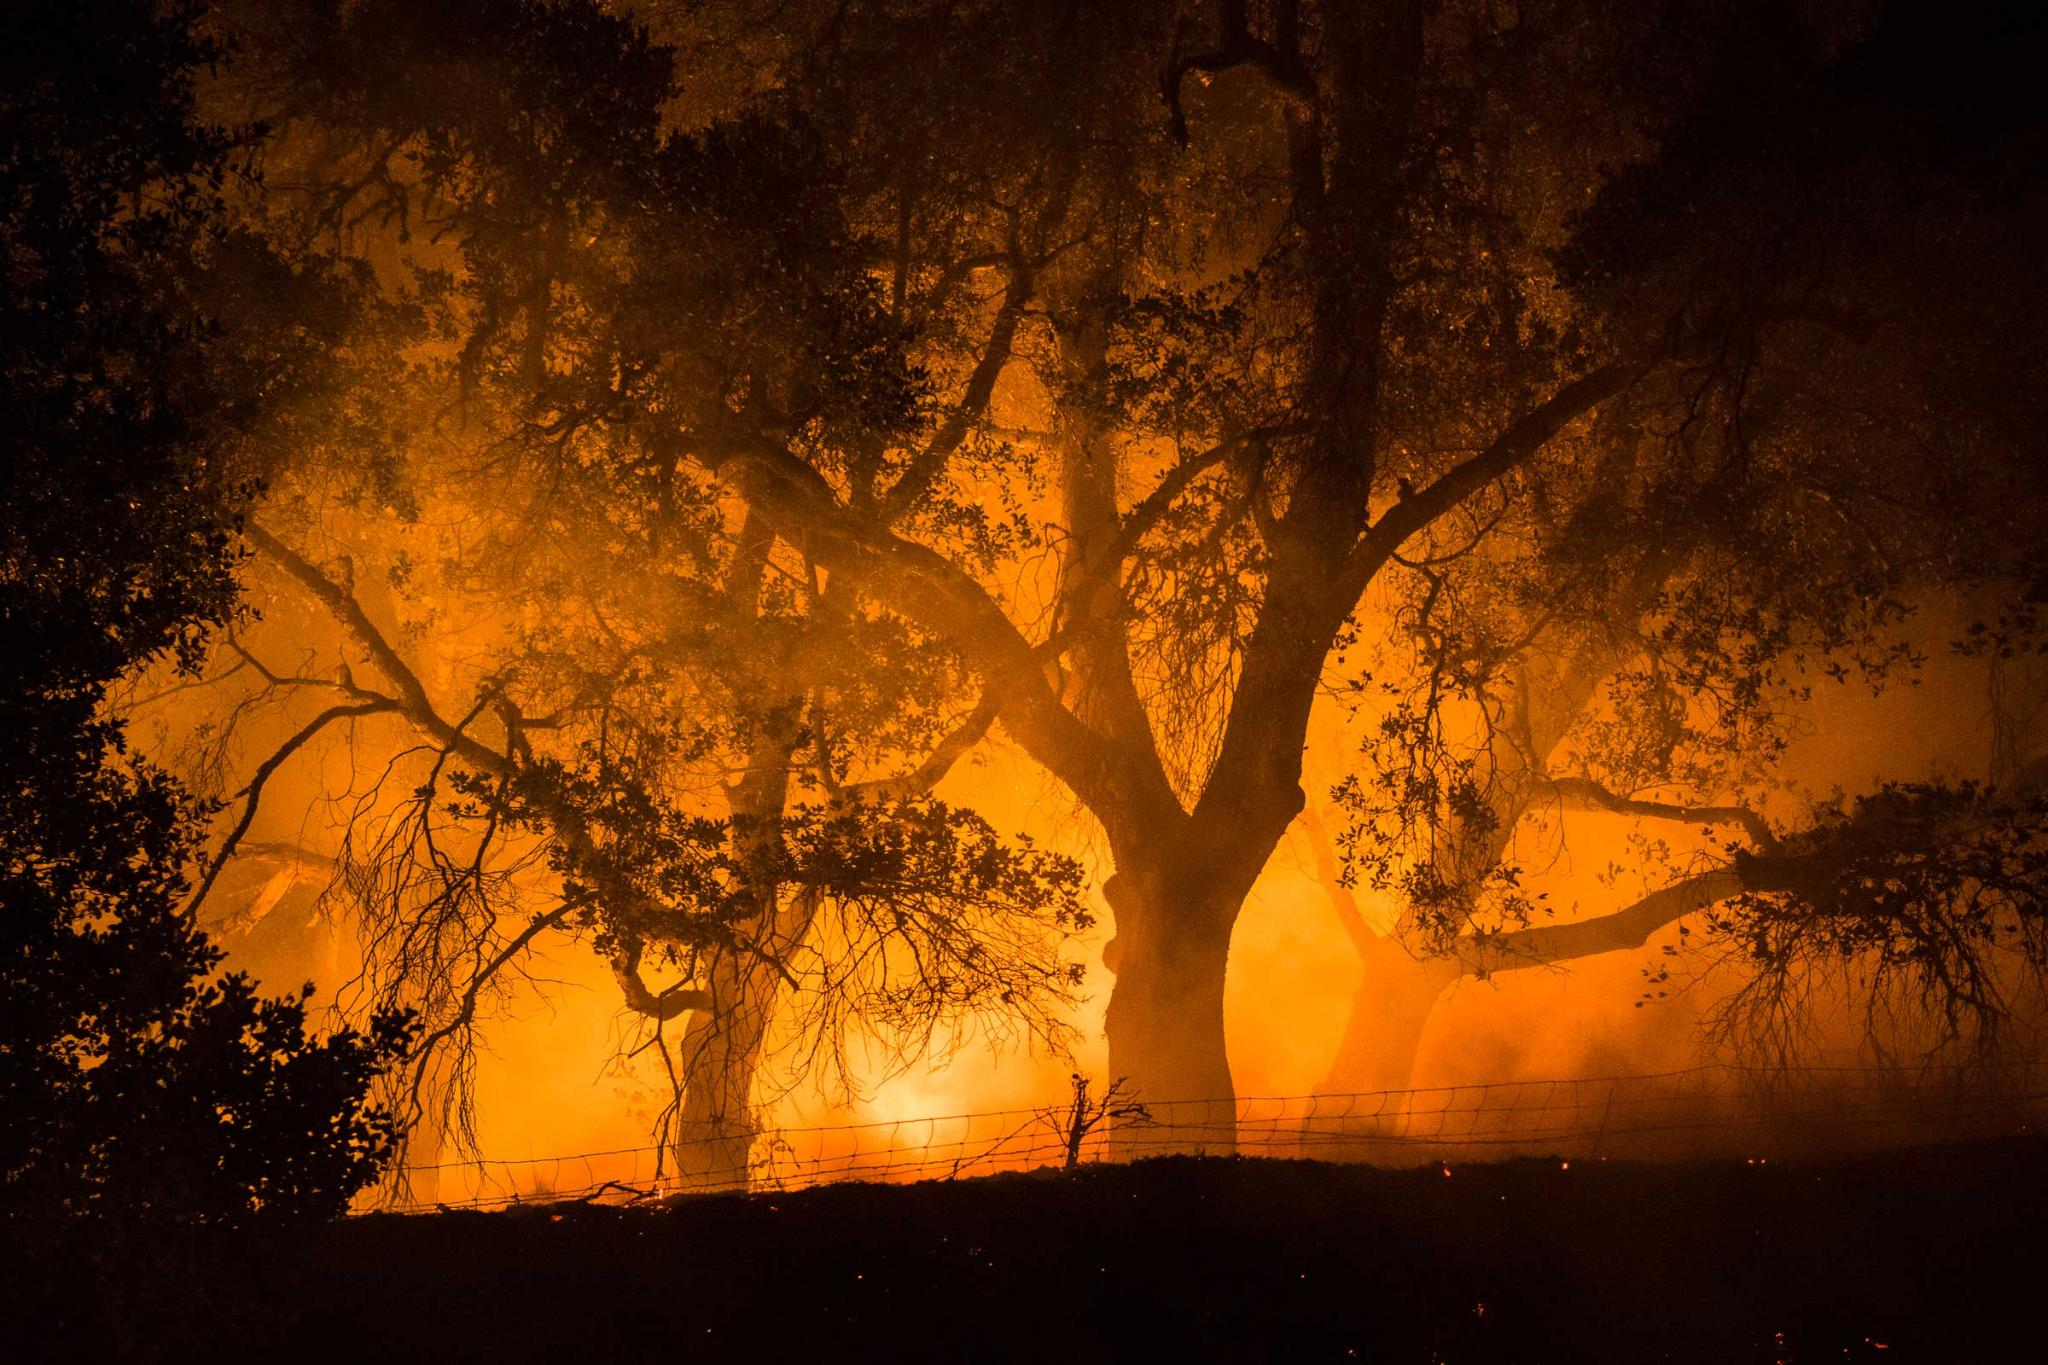fire: (387, 882, 1433, 1197)
